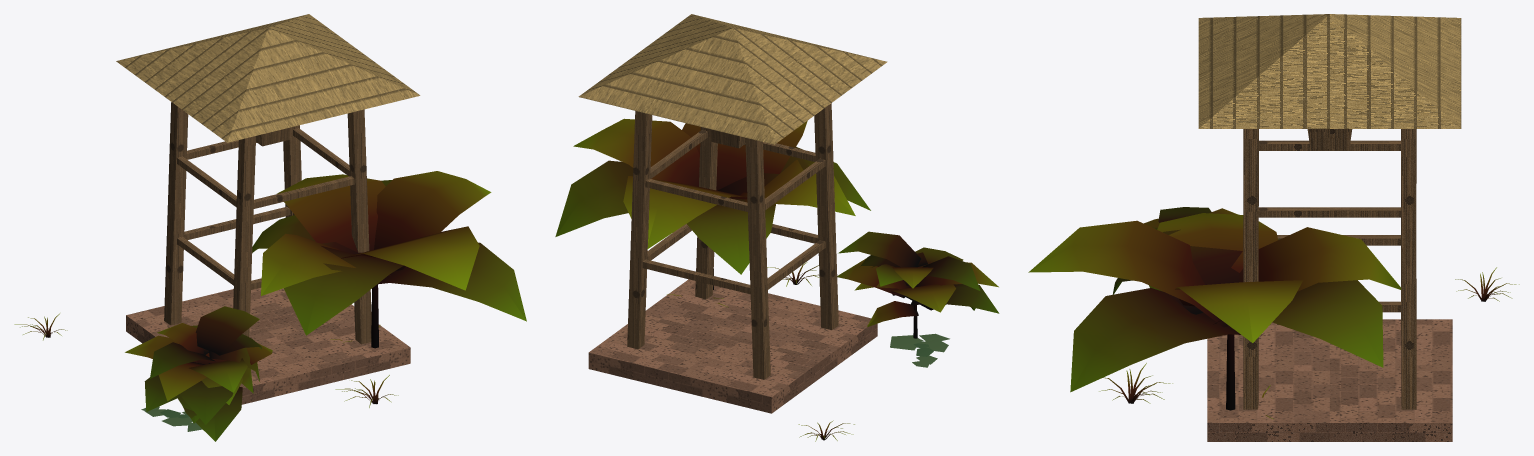
The model's file is bell_frame_01.glb.
3 renders of one model, left to right at view 1: azimuth 30°, elevation 25°; view 2: azimuth 150°, elevation 25°; view 3: azimuth 270°, elevation 25°, orthographic. The views are drawn at different scales.
Parts seen in each view (by area): view 1: bell_frame_01, bell_frame_01_veg_00_banana_b, bell_frame_01_veg_01_bush_c, bell_frame_01_veg_02_moss_a; view 2: bell_frame_01, bell_frame_01_veg_00_banana_b, bell_frame_01_veg_01_bush_c, bell_frame_01_veg_02_moss_a; view 3: bell_frame_01, bell_frame_01_veg_00_banana_b, bell_frame_01_veg_01_bush_c, bell_frame_01_veg_04_grass_tuft_b.
Boxes of the visible parts, <box> form: bell_frame_01: <box>116,14,420,404</box>; bell_frame_01_veg_00_banana_b: <box>252,171,526,348</box>; bell_frame_01_veg_01_bush_c: <box>125,306,272,441</box>; bell_frame_01_veg_02_moss_a: <box>141,406,202,431</box>; bell_frame_01: <box>578,14,887,413</box>; bell_frame_01_veg_00_banana_b: <box>555,118,870,289</box>; bell_frame_01_veg_01_bush_c: <box>837,231,999,338</box>; bell_frame_01_veg_02_moss_a: <box>890,333,949,367</box>; bell_frame_01: <box>1198,14,1461,441</box>; bell_frame_01_veg_00_banana_b: <box>1028,213,1401,410</box>; bell_frame_01_veg_01_bush_c: <box>1112,207,1237,294</box>; bell_frame_01_veg_04_grass_tuft_b: <box>1099,363,1172,403</box>.
Bounding box in the file's own units: 5.95 × 4.74 × 5.62.
7 materials, 7 textured.
